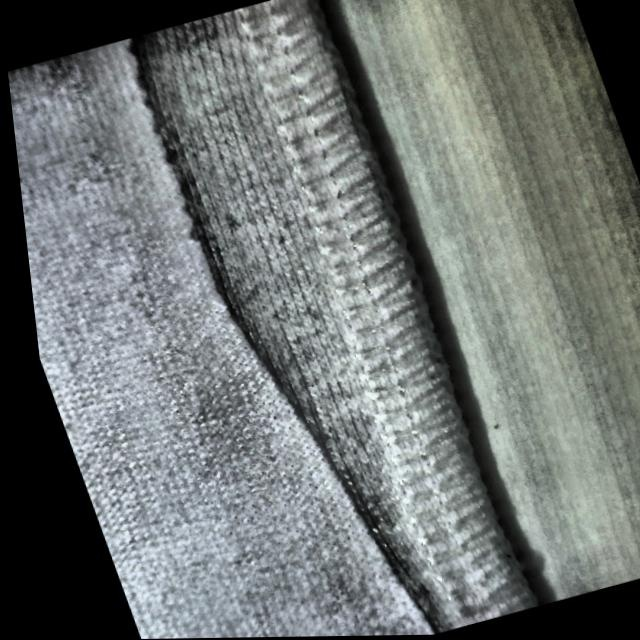seam: (42, 0, 532, 615)
